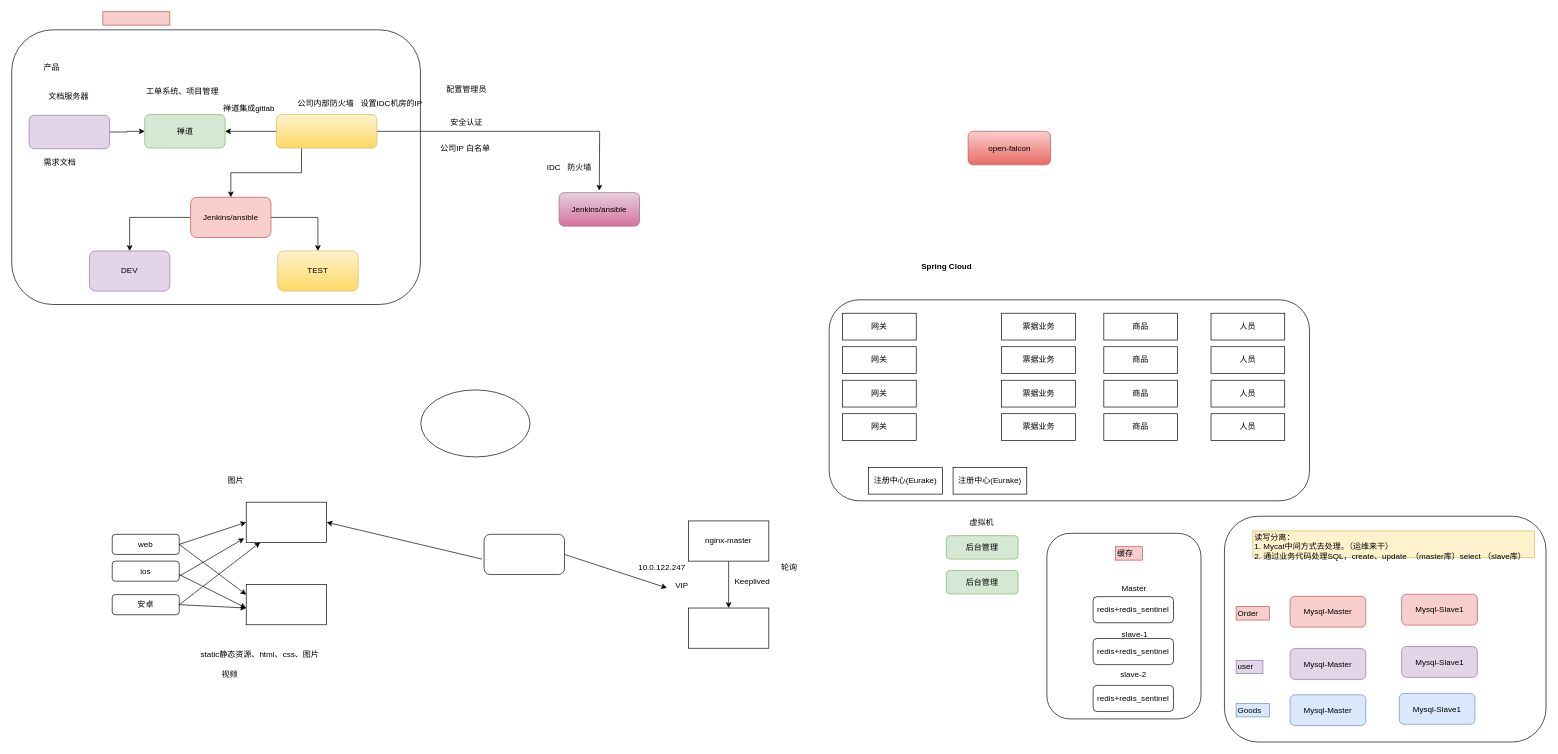
Image size: 1558x754. Some labels were removed from this diagram. Each missing label, with the box of its shape:
Confluence: (28, 115, 110, 149)
IDC: (420, 389, 530, 457)
IDC机房网关: (483, 534, 564, 575)
tengine-Slave: (688, 607, 769, 648)
代码管理（Gitlab、Svn）: (276, 114, 377, 148)
公司内网服务器: (102, 11, 170, 25)
阿里云CDN: (246, 584, 327, 625)
阿里云（万网） DNS: (246, 501, 327, 542)
